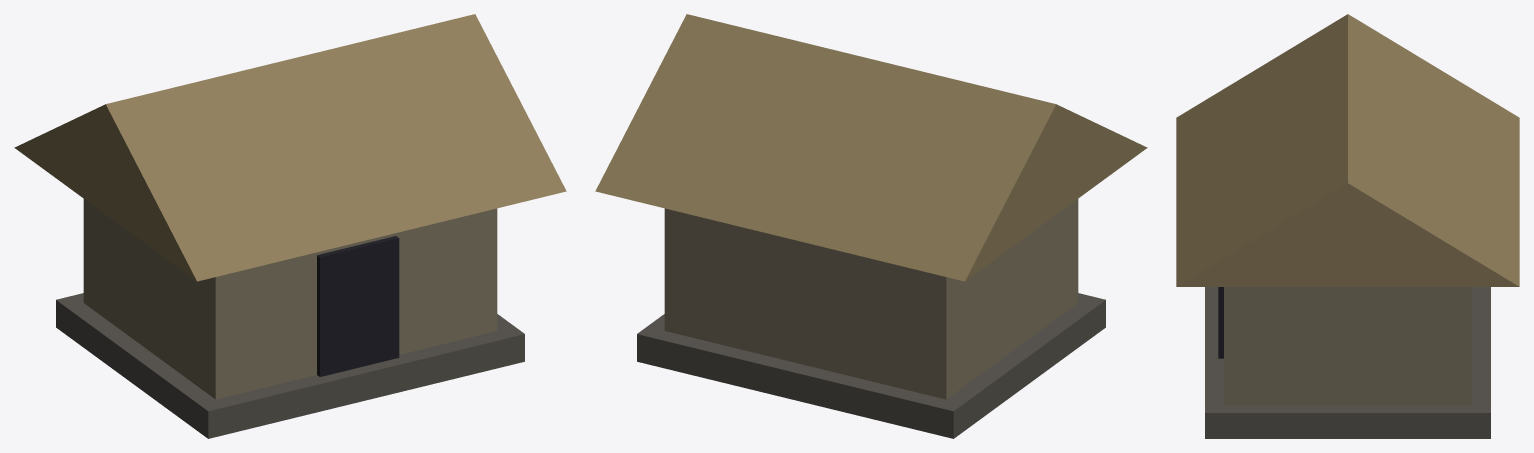
File: s2_ferry_hut.glb
3 views of the same model, side by side, from view 1: azimuth 30°, elevation 25°; view 2: azimuth 150°, elevation 25°; view 3: azimuth 270°, elevation 25° (orthographic). The views are drawn at different scales.
Visible parts, largest first — view 1: s2_ferry_hut; view 2: s2_ferry_hut; view 3: s2_ferry_hut.
Boxes of the visible parts, x1,y1,x2,y2 form: s2_ferry_hut: (14,14,566,438); s2_ferry_hut: (595,14,1147,438); s2_ferry_hut: (1176,14,1519,438).
Bounding box in the file's own units: 4.2 × 3.1 × 3.6.
